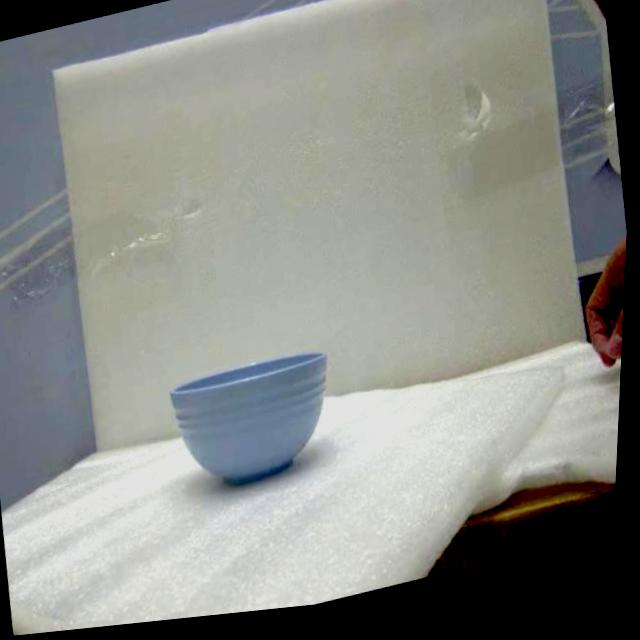Bowl: (170, 353, 325, 483)
